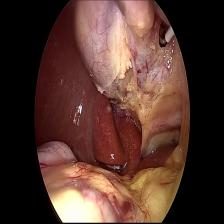Hook: (157, 14, 175, 57)
